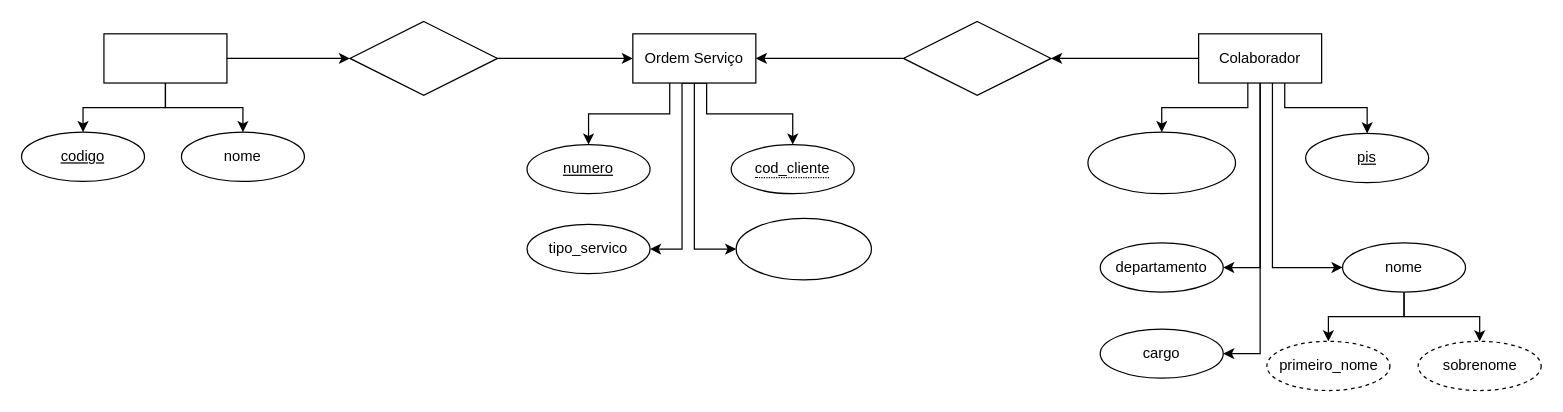
The diagram is 1563 pixels wide and 412 high, and some of its shapes have lost their labels. Each missing label, with the box of its shape:
Cliente: (103, 33, 227, 83)
cod_colaborador: (735, 217, 871, 280)
cod_identificacao: (1087, 131, 1236, 194)
Contrata Serviço: (349, 20, 498, 95)
Executa: (902, 20, 1051, 95)
